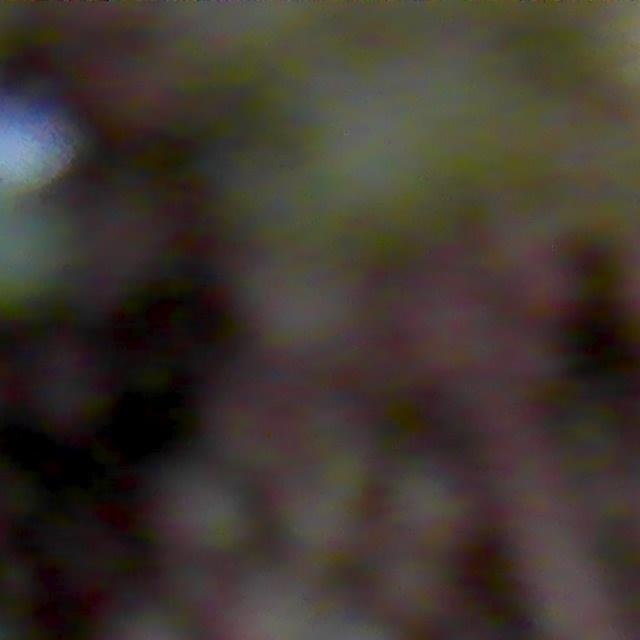SeaGrape: (164, 475, 253, 557)
